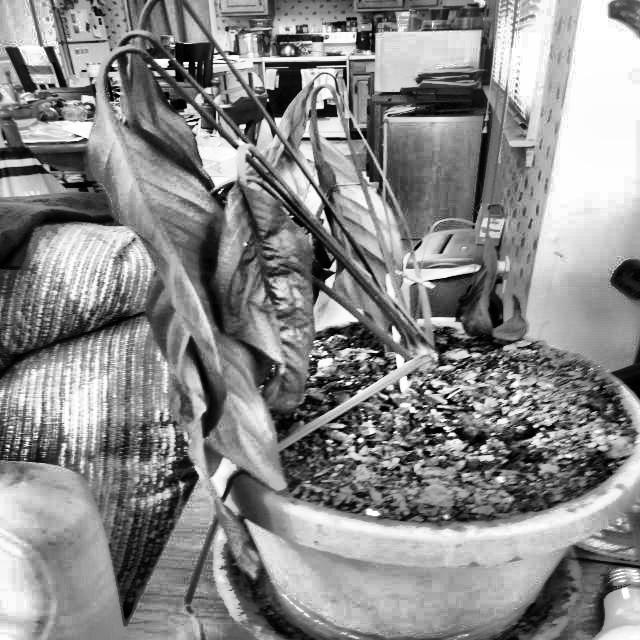plants: (89, 0, 482, 639)
